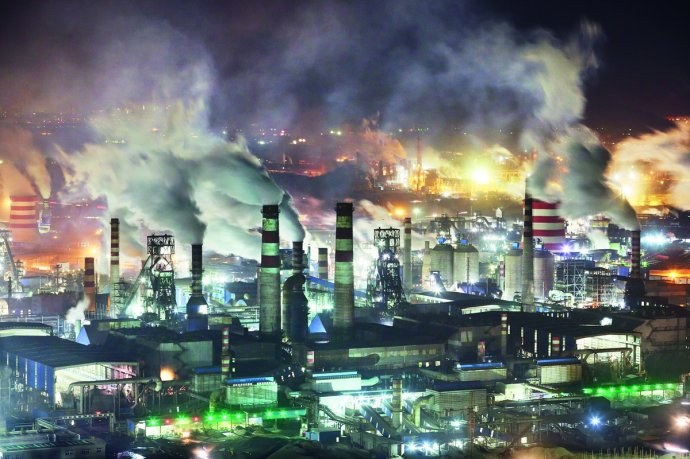dust: (98, 149, 209, 250), (552, 128, 647, 239), (194, 135, 289, 215), (274, 186, 314, 249)
